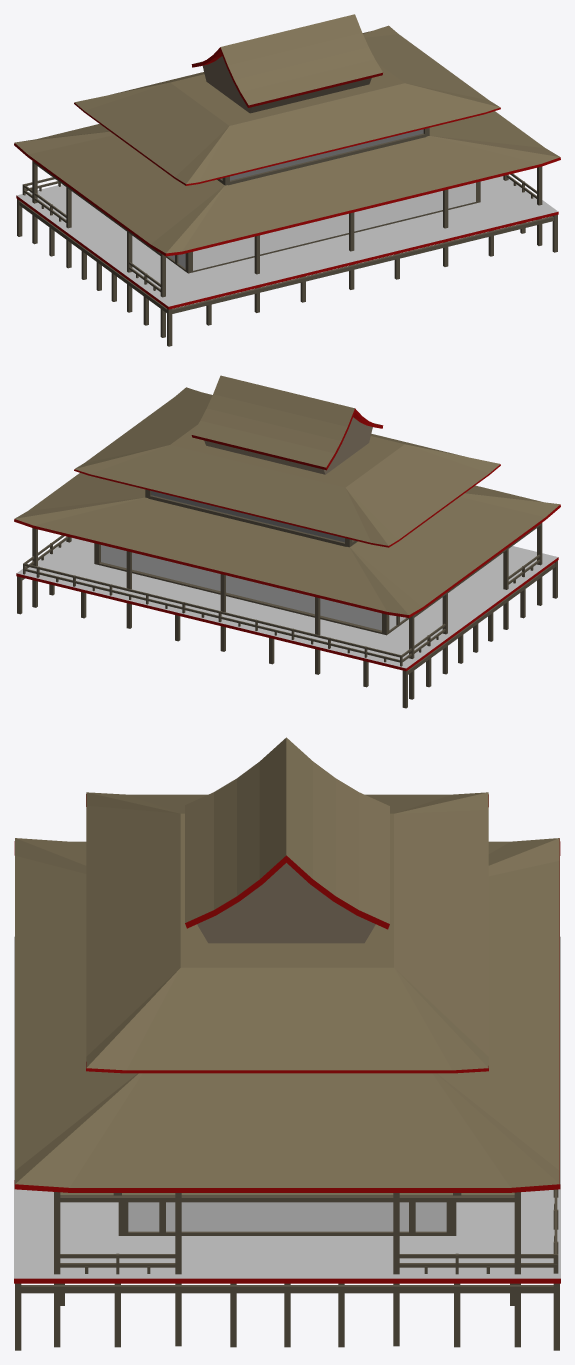
The model's file is mansion.fbx.
3 views of the same model, one above another, from view 1: azimuth 30°, elevation 25°; view 2: azimuth 150°, elevation 25°; view 3: azimuth 270°, elevation 25° (orthographic). The views are drawn at different scales.
Parts seen in each view (by area): view 1: masnsion; view 2: masnsion; view 3: masnsion.
Part boxes in pixels (x1,y1,x2,y2): masnsion: [14, 14, 560, 346]; masnsion: [14, 375, 560, 708]; masnsion: [14, 737, 560, 1350].
Size of the model in its own units: 3439 by 1778 by 2294.
